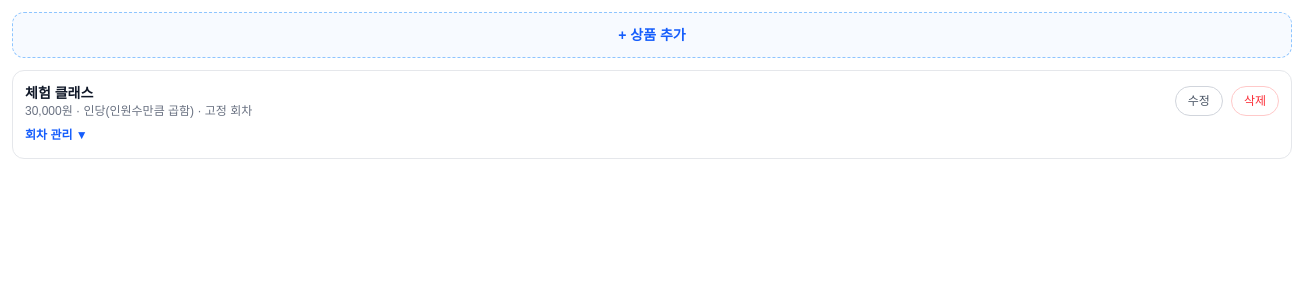
Scenario: ProductsManager › 고정 회차 상품에서 회차 관리를 열면 등록된 회차 목록을 보여준다
Click the button "회차 관리 ▼".
click(56, 135)  # box [25,127,88,143]
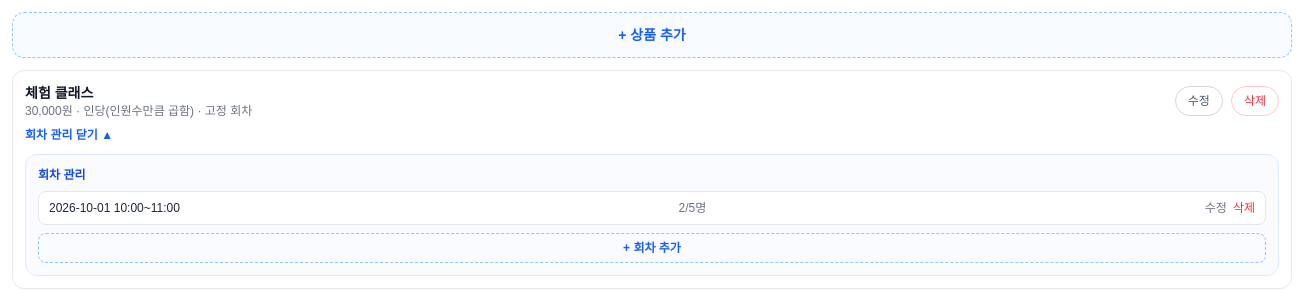
Expected: the text "2/5명" is shown, [678,200,706,216]
Expected: the text "2026-10-01 10:00~11:00" is shown, [49,200,180,216]
